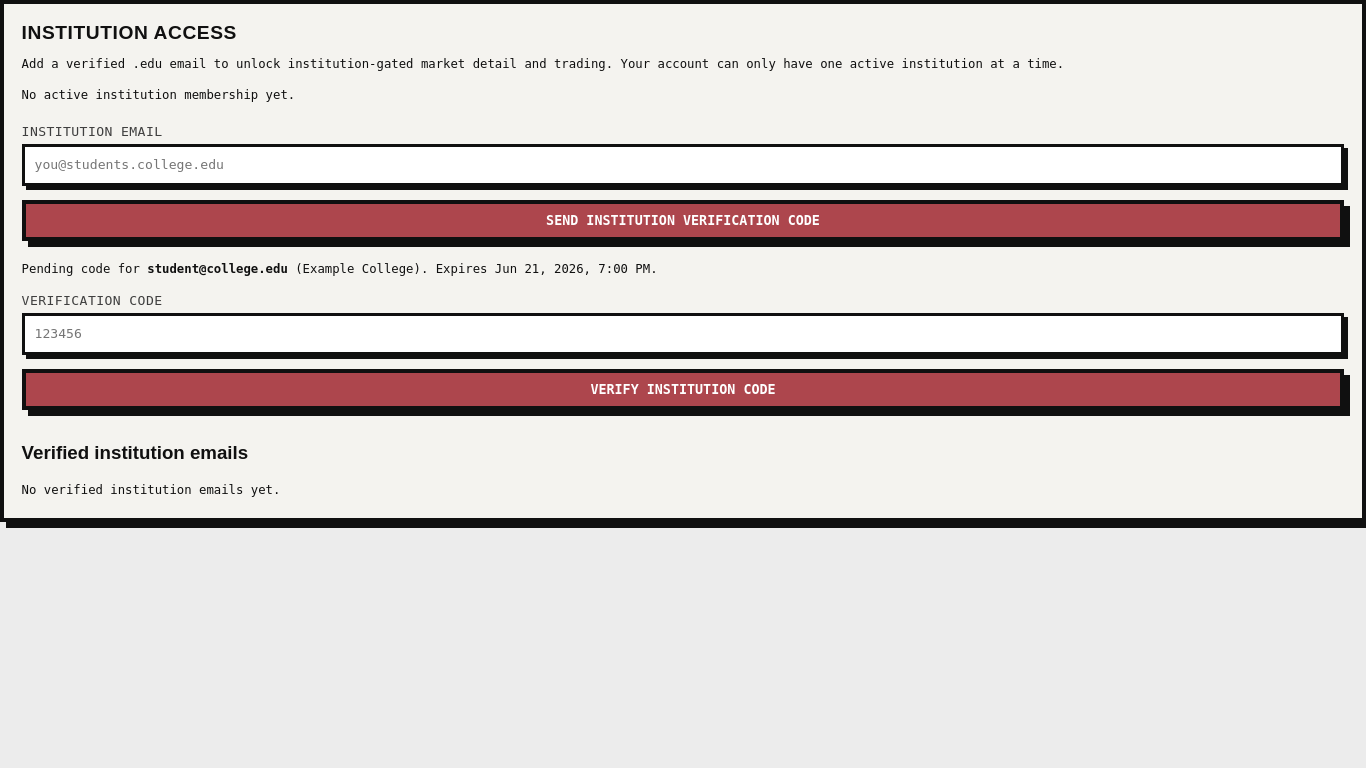
Scenario: InstitutionAccessPanel › verifies pending challenge codes and reloads the access snapshot
The image size is (1366, 768).
Check: the text "Pending code for" is shown, box [22,262,147,276]
Step 1. Type "12ab3456" into the field labelled "Verification code" → (683, 334), box [22,313,1344,355]
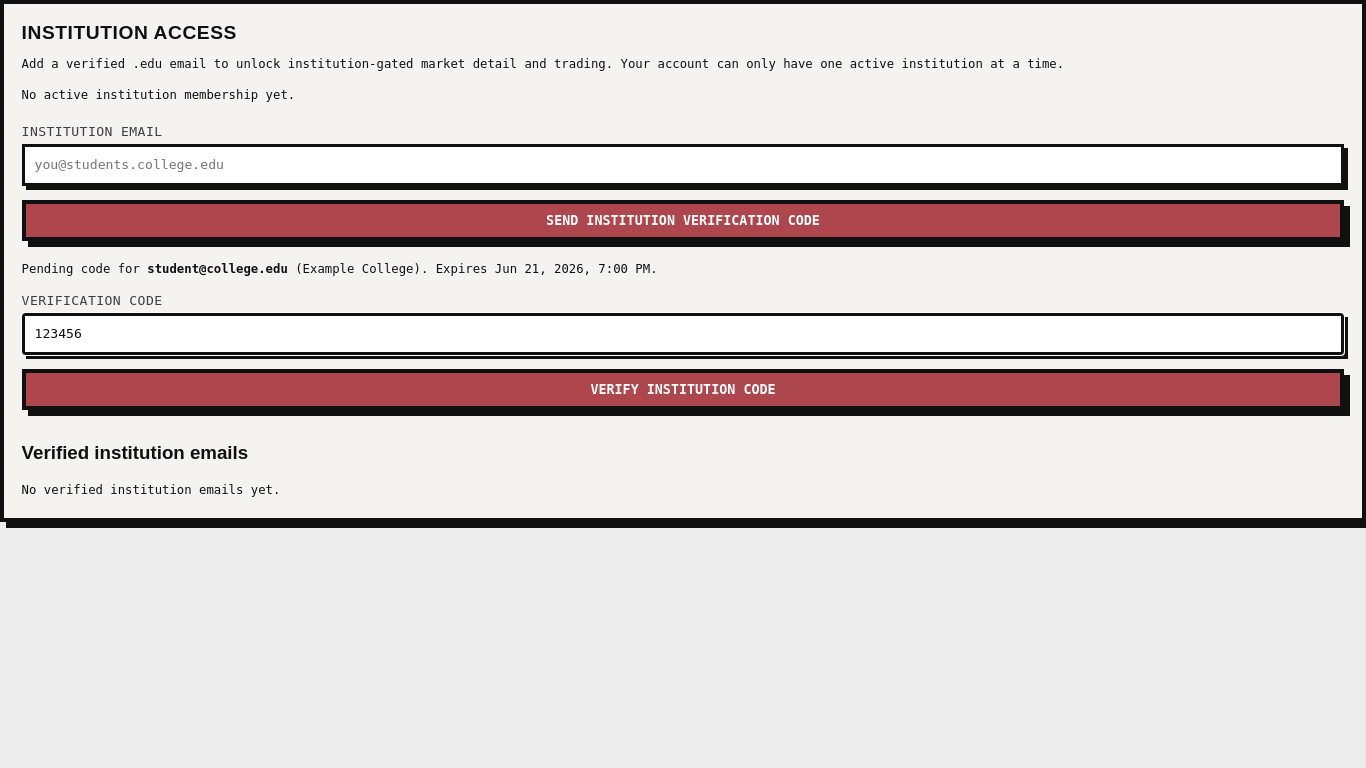
Check: the field labelled "Verification code" holds "123456", box [22,313,1344,355]
Step 2. Click the button "Verify institution code" → (683, 390), box [22,369,1344,410]
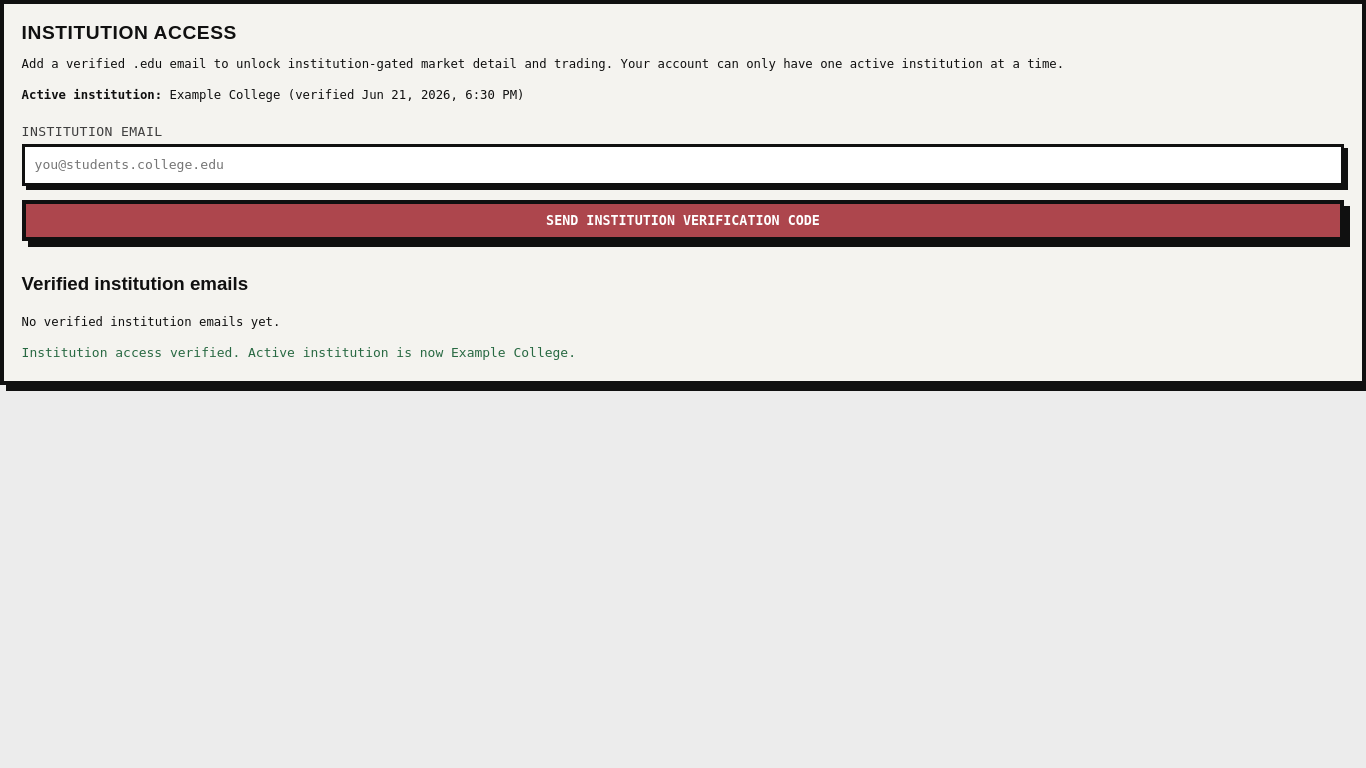
Check: the text "Institution access verified. Active institution is now Example College." is shown, box [22,345,576,360]
Check: the text "Active institution:" shows "Example College", box [170,88,280,102]
